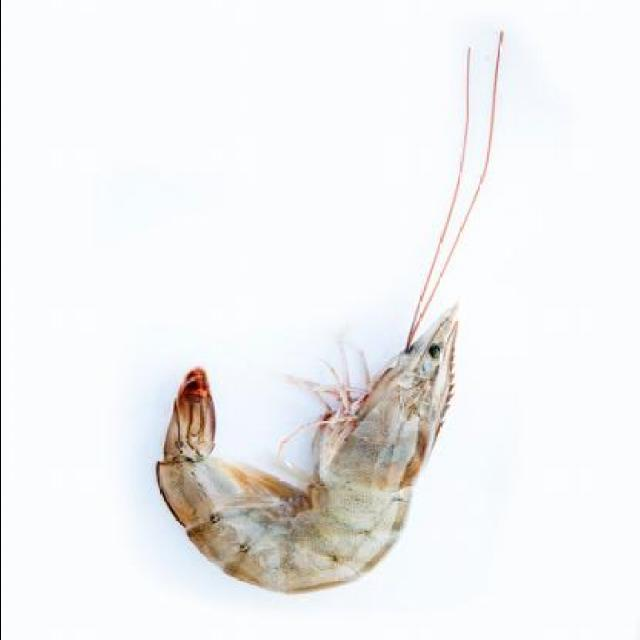shrimp: (145, 290, 485, 600)
